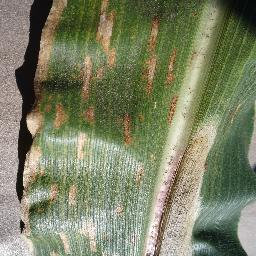Gray_Leaf_Spot: (5, 0, 197, 256), (200, 118, 223, 209), (222, 99, 246, 133)
